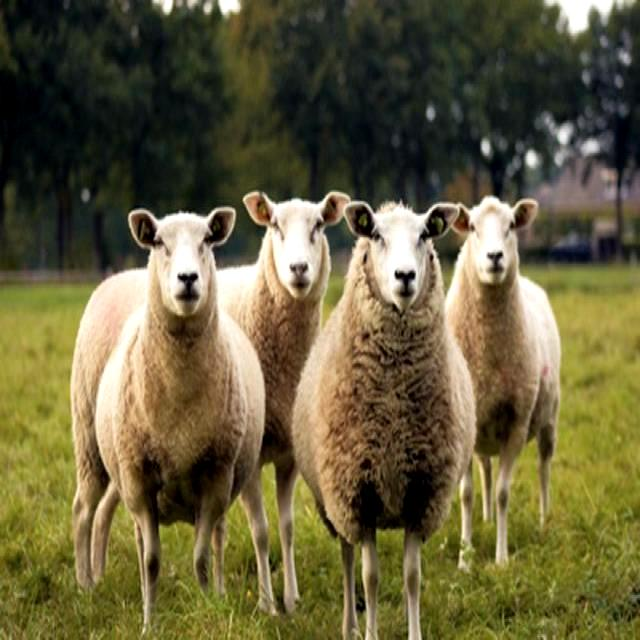sheep: (291, 203, 478, 640), (96, 207, 266, 634), (445, 194, 563, 562), (223, 190, 352, 446)
